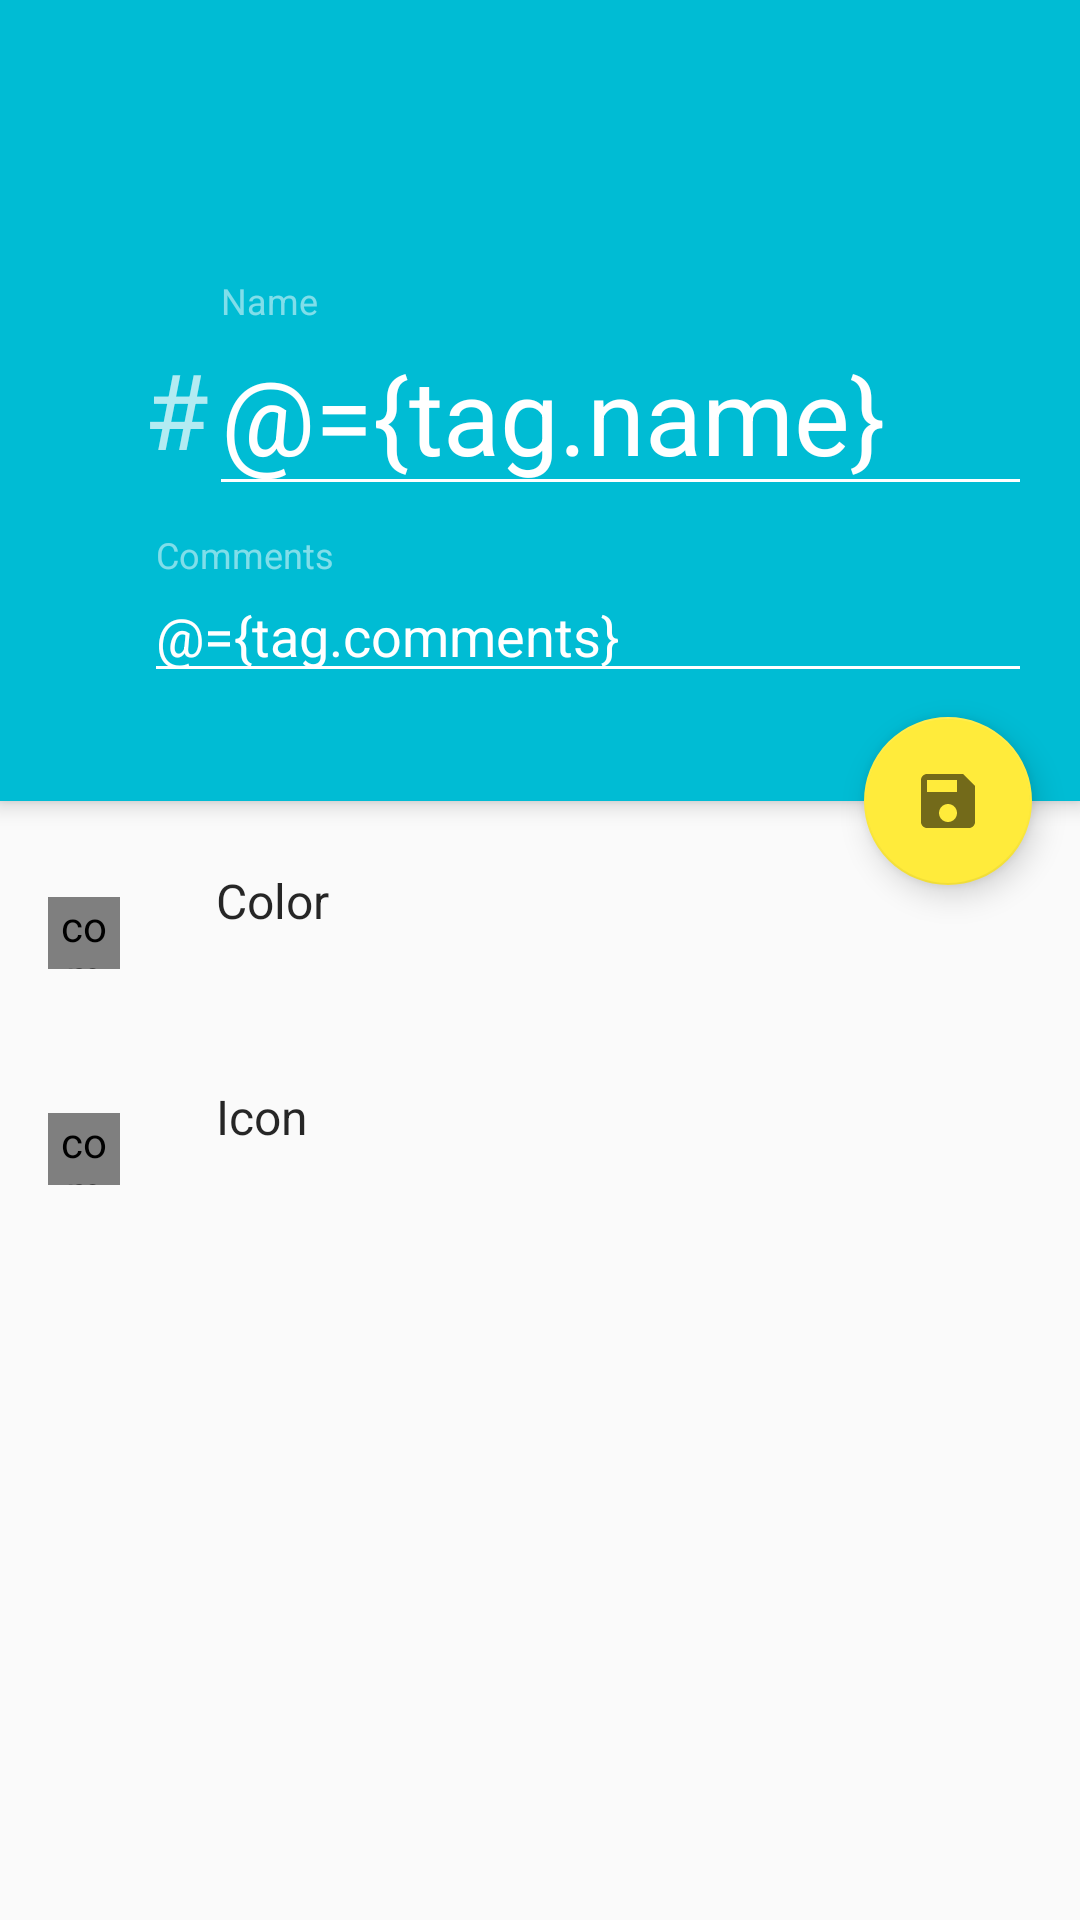

Named icons in this screenshot (1080×1920) and their centers, (x,y):
save: (948,801)
